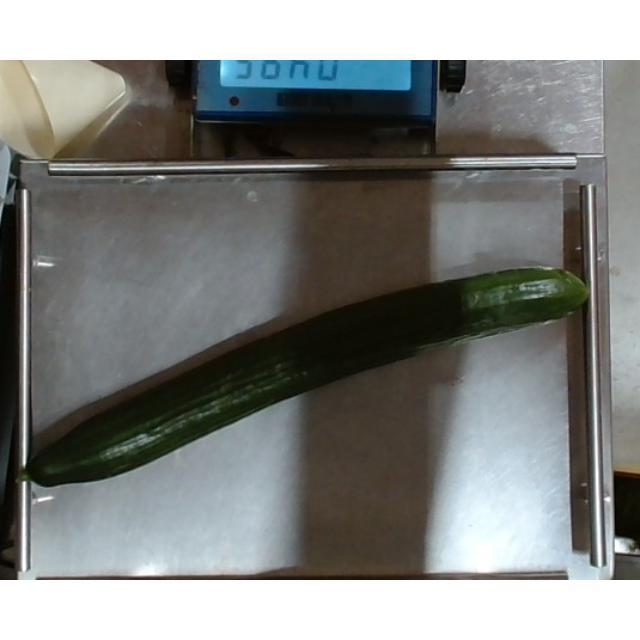cucumber: (16, 264, 588, 491)
